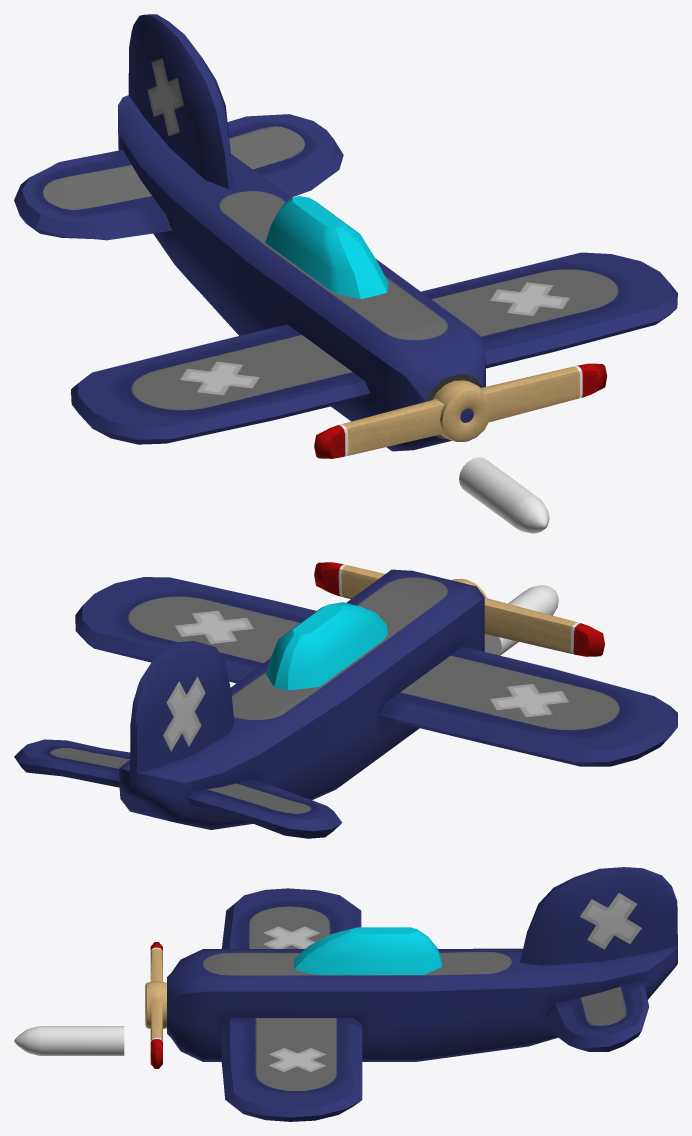
File: Bullet.FBX
3 views of the same model, one above another, from view 1: azimuth 30°, elevation 25°; view 2: azimuth 150°, elevation 25°; view 3: azimuth 270°, elevation 25° (orthographic). The views are drawn at different scales.
Parts seen in each view (by area): view 1: Body, Prop, Cylinder001; view 2: Body, Prop, Cylinder001; view 3: Body, Cylinder001, Prop.
Boxes of the visible parts, bbox=[...] form: Body: bbox=[14, 14, 677, 451]; Prop: bbox=[314, 363, 607, 458]; Cylinder001: bbox=[459, 457, 549, 533]; Body: bbox=[14, 569, 677, 838]; Prop: bbox=[314, 562, 604, 656]; Cylinder001: bbox=[484, 585, 558, 655]; Body: bbox=[167, 867, 677, 1121]; Cylinder001: bbox=[14, 1026, 124, 1055]; Prop: bbox=[145, 942, 166, 1068].
Size of the model in its own units: 58.66 by 22.96 by 73.32.
Materials: 2 (2 with a texture image).
